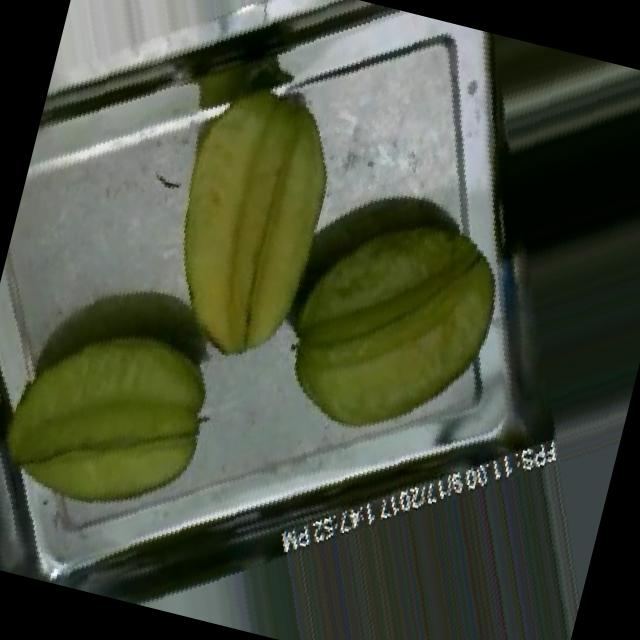fruit: (89, 32, 414, 415), (231, 152, 568, 498), (0, 242, 270, 575)
